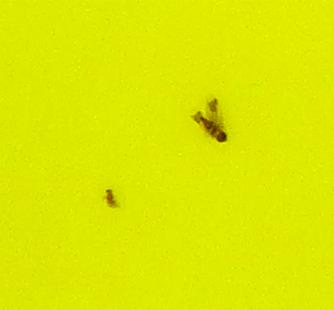Brachycera: (100, 181, 120, 210)
Hemiptera: (195, 100, 234, 144)
